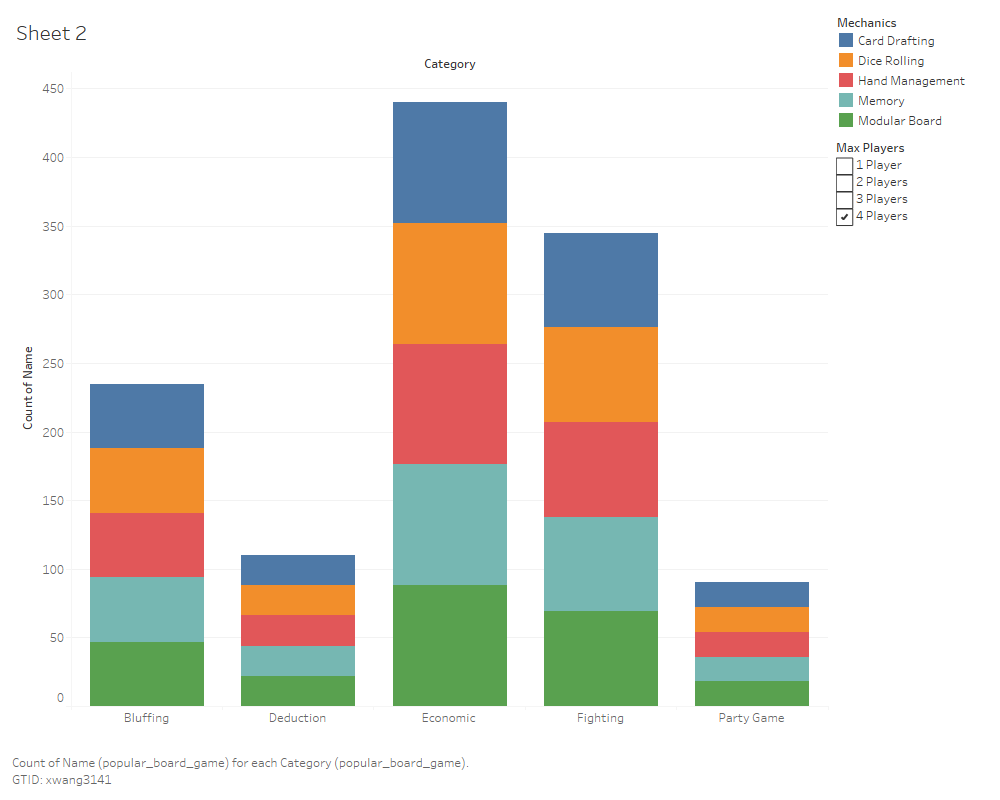

The dashboard page shown, as its layout file describes it:
{"tool":"tableau","page":{"name":"Dashboard 1","canvas":[1000,800],"ordinal":0},"visuals":[{"type":"worksheet","title":"Sheet 2","mark":"Automatic","rows":["name"],"cols":["category"],"box":[8,8,824,784]},{"type":"legend","title":"Sheet 2","param":"[federated.06yf9v205c0qbh15107fn1aqa25w].[none:mechanics:nk]","box":[832,8,160,126]},{"type":"filter","title":"Sheet 2","param":"[federated.06yf9v205c0qbh15107fn1aqa25w].[none:max_players:nk]","box":[832,134,160,127]}]}

Visuals, with their boxes in screenshot pixels (x1, y1, x2, y2), scaled from the page's 1000x800 canvas onto the 1000x800 screenshot:
"Sheet 2" worksheet: locate(8, 8, 832, 792)
"Sheet 2" legend: locate(832, 8, 992, 134)
"Sheet 2" filter: locate(832, 134, 992, 261)
